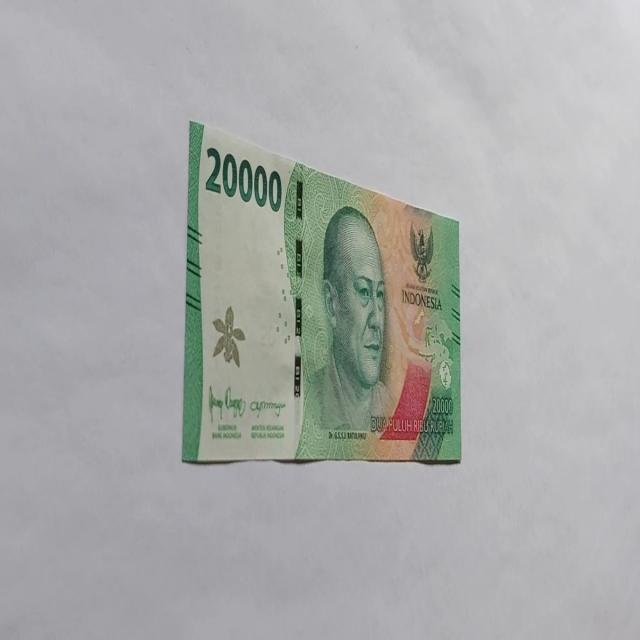dua puluh ribu rupiah: (182, 119, 462, 465), (292, 202, 432, 460)
